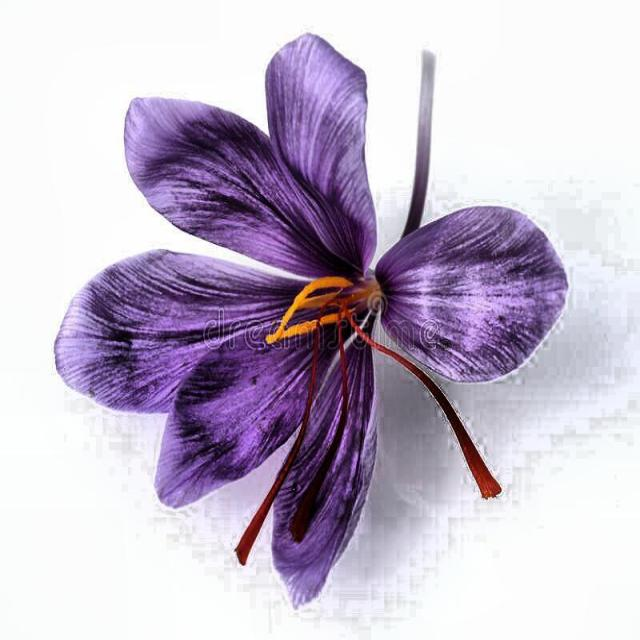Flower: (48, 23, 578, 617)
stigma: (353, 321, 508, 510), (228, 311, 325, 572), (286, 315, 353, 549)
